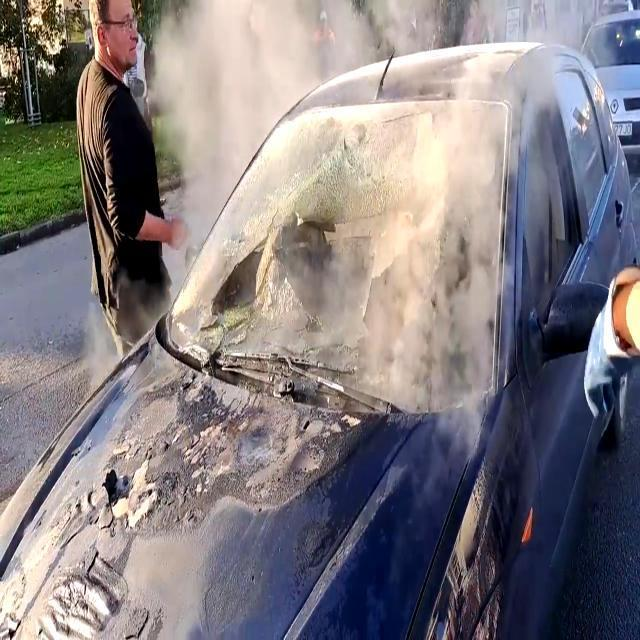Smoke: (150, 3, 370, 209)
